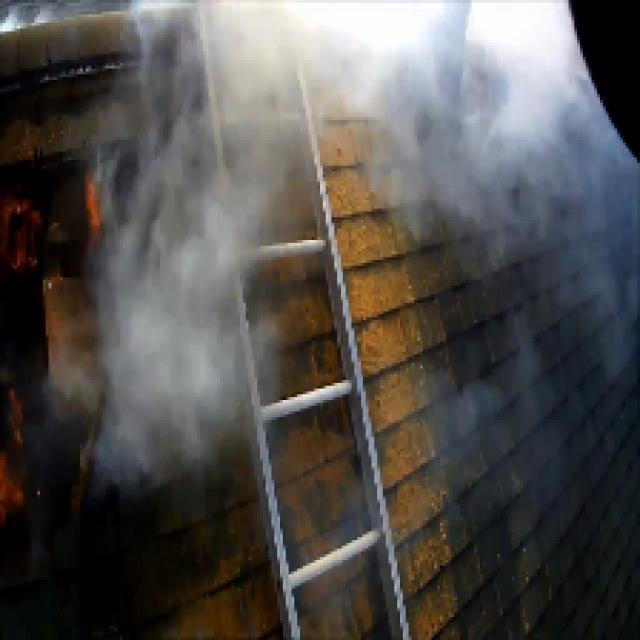Smoke: (112, 23, 240, 454), (258, 25, 581, 169)
